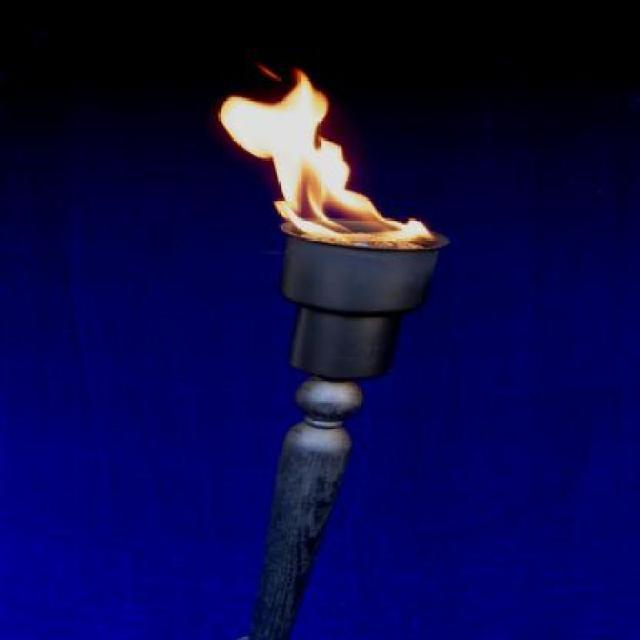Fire: (215, 70, 433, 246)
